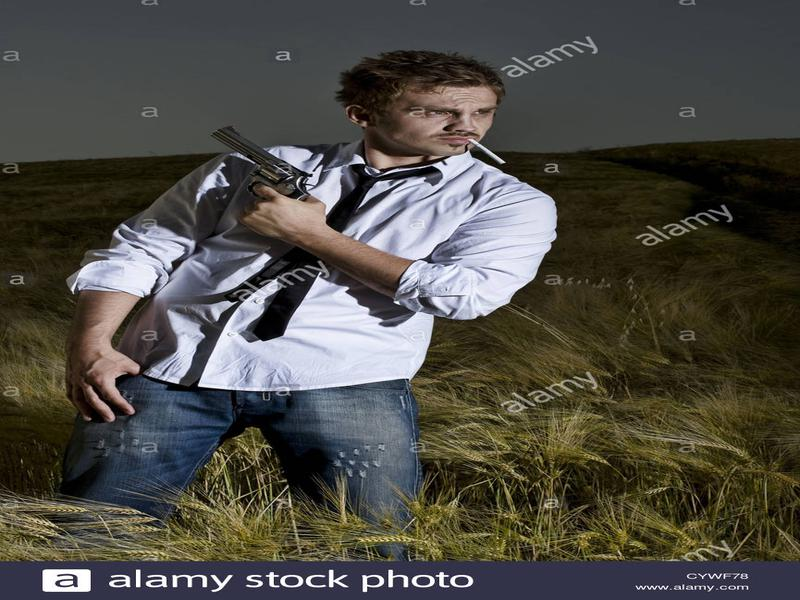Revolver: (206, 121, 317, 221)
